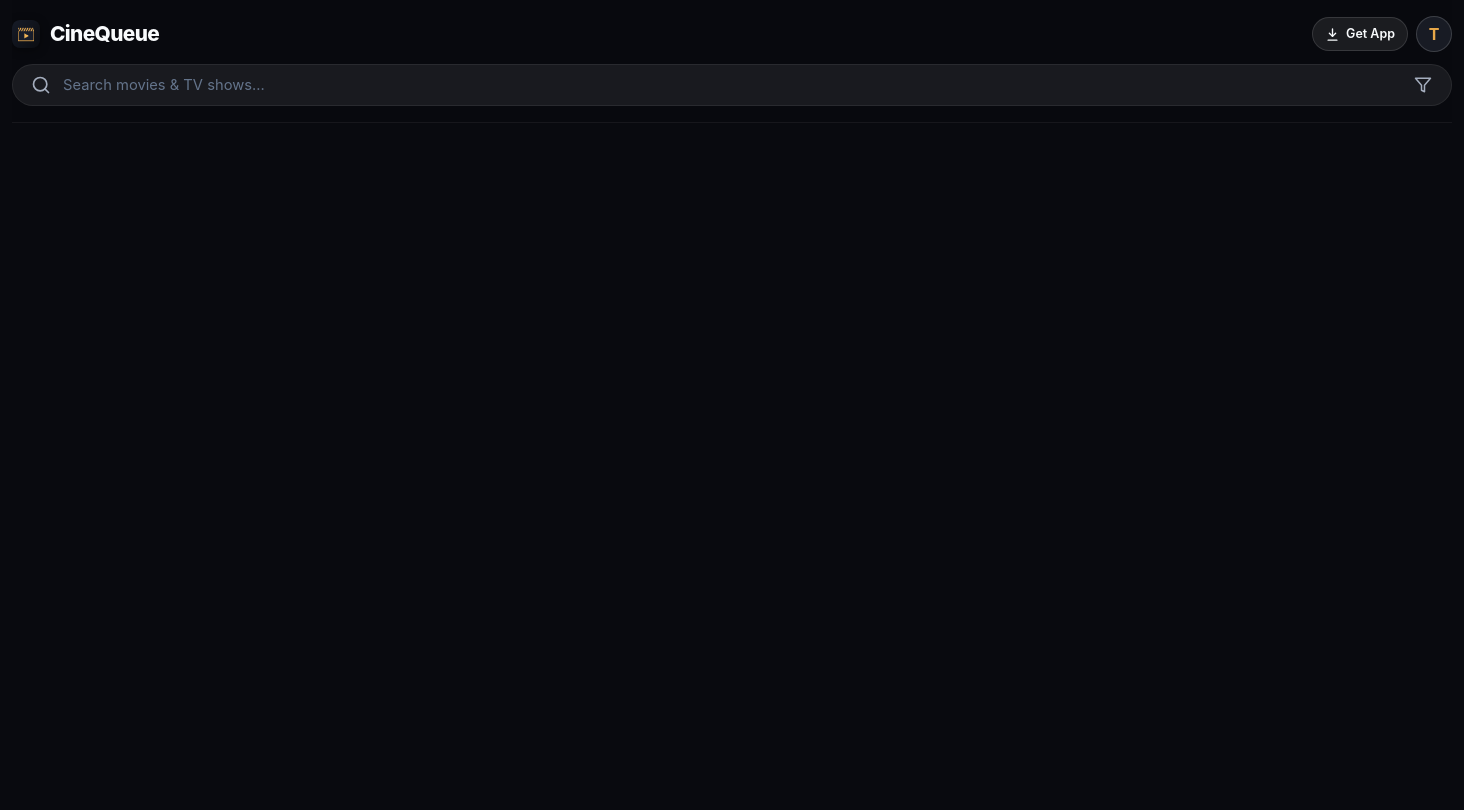
Test case: SearchHeader › opens filters drawer when filter toggle button is clicked
Click the button named "search filters" at (1423, 85), box 1405,67 -> 1441,103
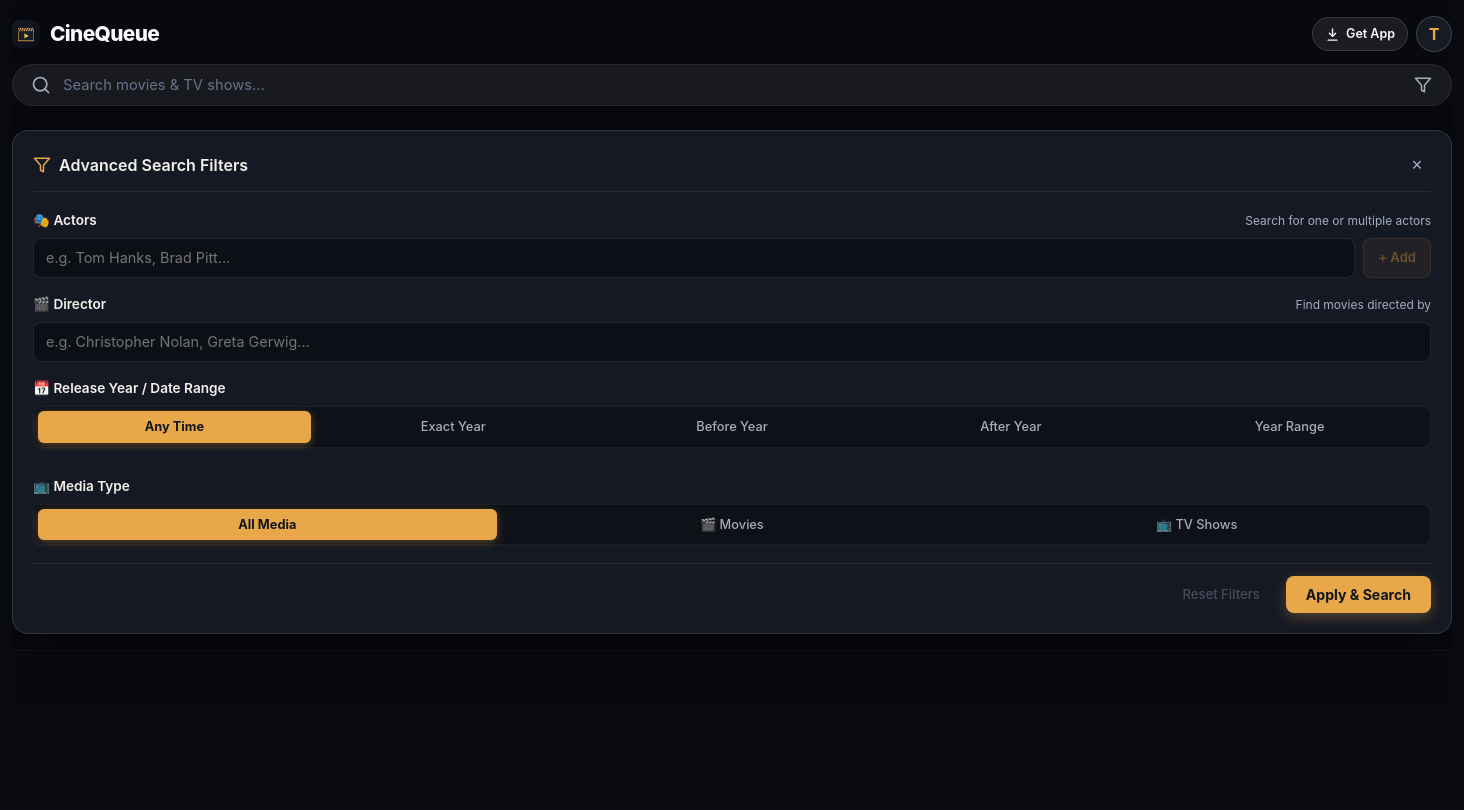
Expected: the heading "Advanced Search Filters" is shown, 59,153 -> 248,177
